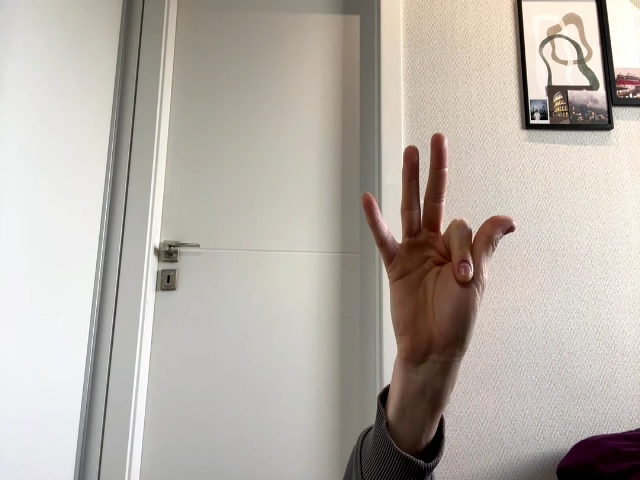F: (362, 134, 517, 362)
